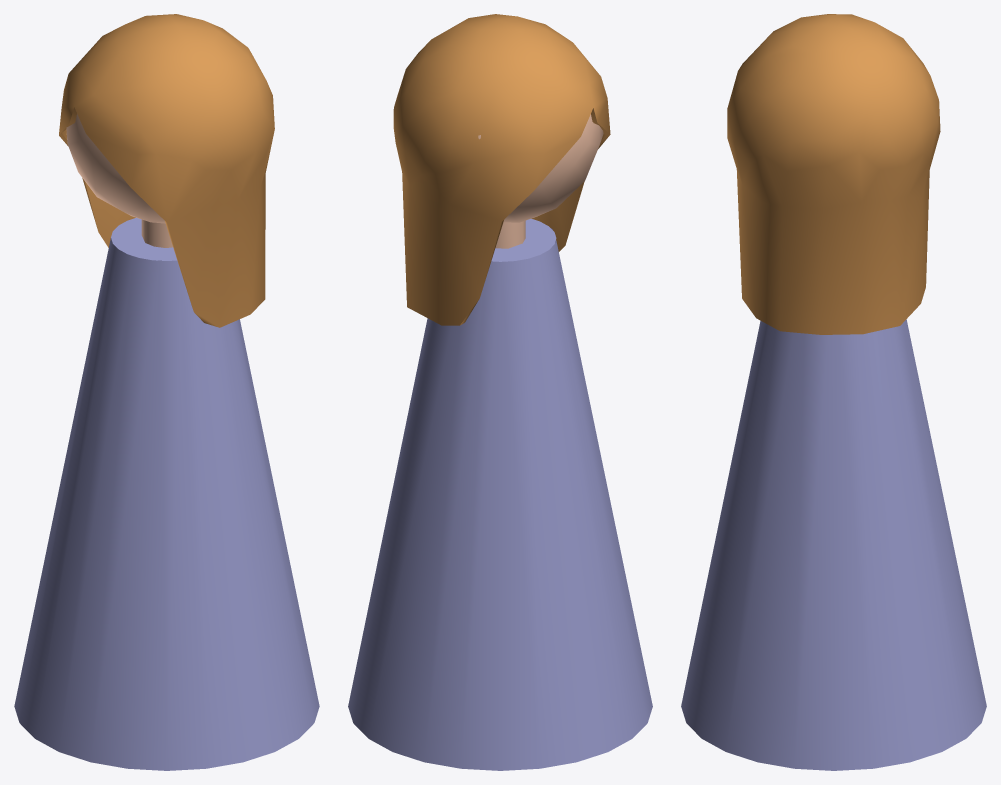
The model's file is per_blondy.fbx.
3 views of the same model, side by side, from view 1: azimuth 30°, elevation 25°; view 2: azimuth 150°, elevation 25°; view 3: azimuth 270°, elevation 25° (orthographic).
Visible parts, largest first — view 1: Cone.003; view 2: Cone.003; view 3: Cone.003.
Part boxes in pixels (x1,y1,x2,y2): Cone.003: (14, 14, 319, 770); Cone.003: (348, 14, 652, 770); Cone.003: (681, 14, 986, 770).
Bounding box in the file's own units: 200 × 494 × 200.
